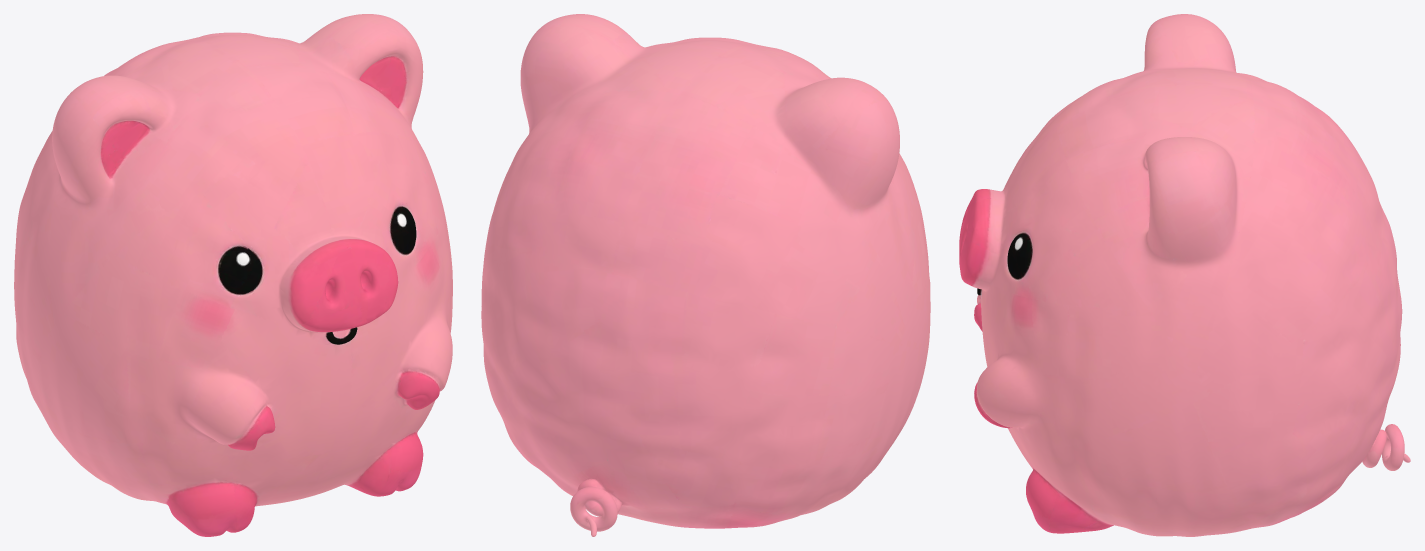
File: Piggy Bank.glb
The picture shows the model from 3 angles, left to right: view 1: azimuth 30°, elevation 25°; view 2: azimuth 150°, elevation 25°; view 3: azimuth 270°, elevation 25°; orthographic projection. The views are drawn at different scales.
Size of the model in its own units: 1.78 by 1.88 by 1.9.
1 material, 1 textured.
